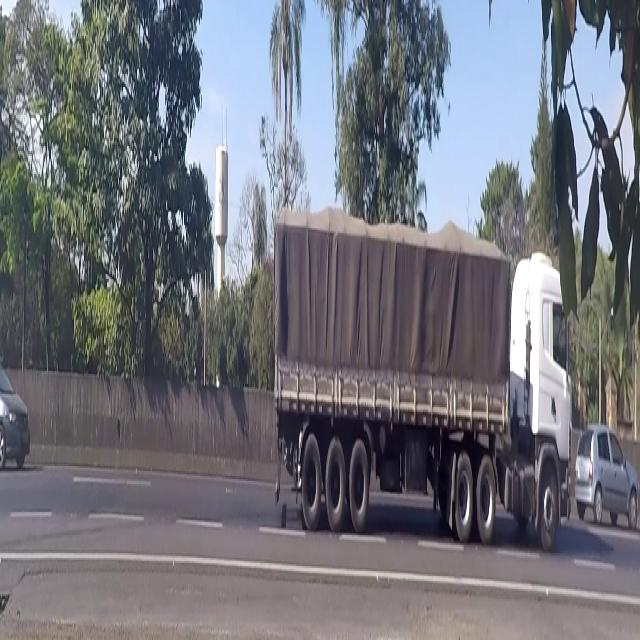-axle: (348, 434, 371, 537), (324, 431, 346, 537), (477, 446, 497, 554), (453, 446, 474, 548), (301, 424, 321, 530), (538, 459, 560, 551)
